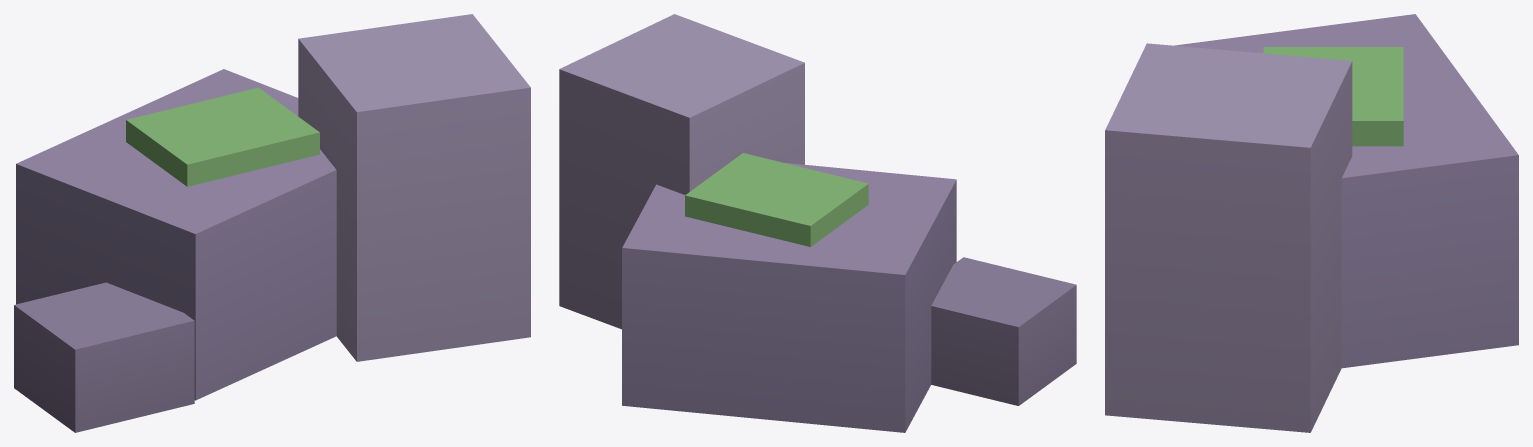
File: rock-cluster.glb
The picture shows the model from 3 angles, left to right: view 1: azimuth 30°, elevation 25°; view 2: azimuth 150°, elevation 25°; view 3: azimuth 270°, elevation 25°; orthographic projection. The views are drawn at different scales.
Visible parts, largest first — view 1: rock-cluster_body; view 2: rock-cluster_body; view 3: rock-cluster_body.
Boxes of the visible parts, bbox=[...] form: rock-cluster_body: bbox=[14, 14, 530, 432]; rock-cluster_body: bbox=[559, 14, 1076, 432]; rock-cluster_body: bbox=[1105, 14, 1518, 432].
Size of the model in its own units: 1.78 by 0.9 by 1.18.
